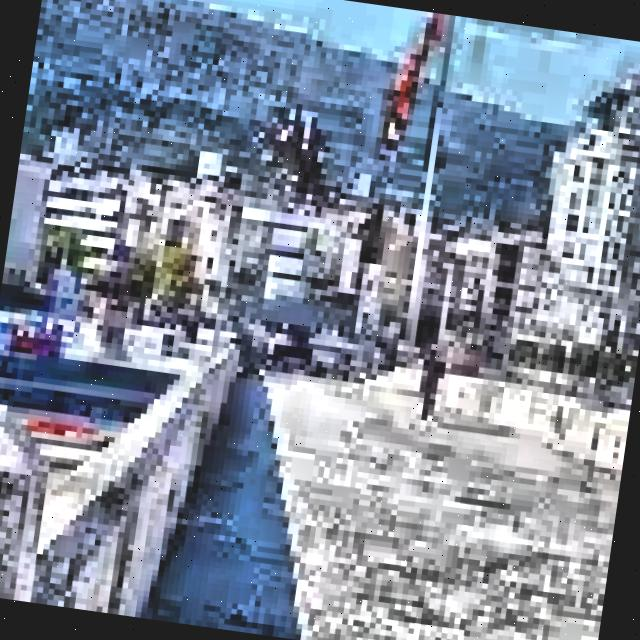alexander the great monument: (204, 85, 381, 394)
stone bridge: (0, 293, 634, 640)
